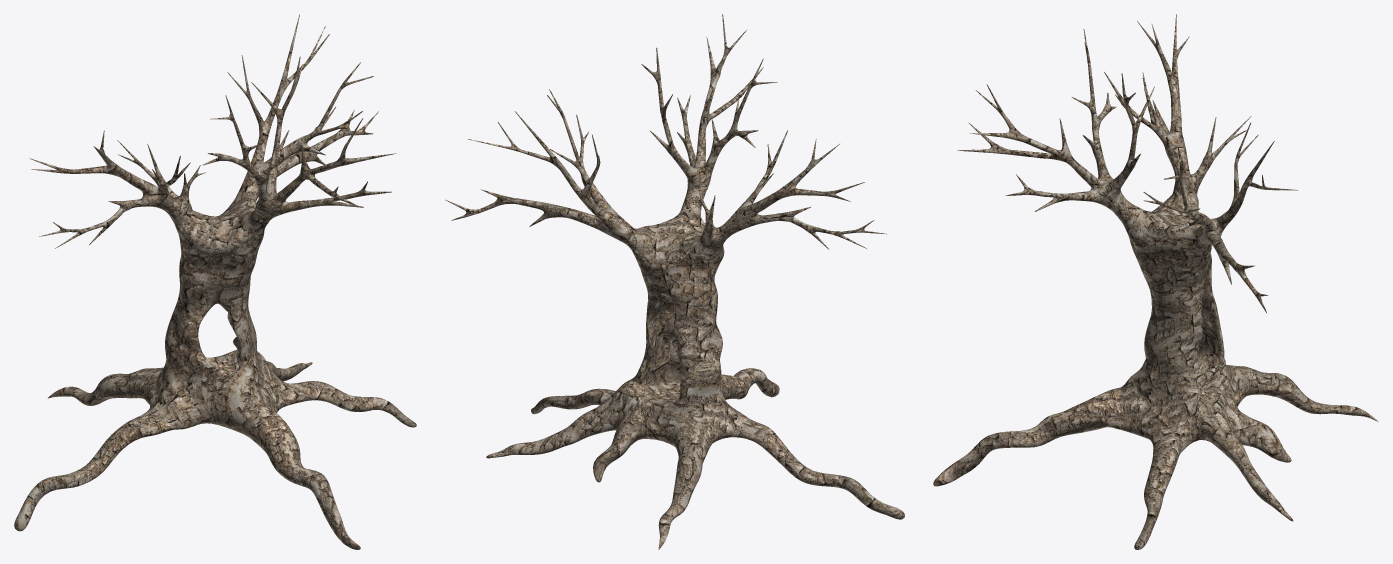
Rendered from HollowTree2.fbx.
The picture shows the model from 3 angles, left to right: view 1: azimuth 30°, elevation 25°; view 2: azimuth 150°, elevation 25°; view 3: azimuth 270°, elevation 25°; orthographic projection. The views are drawn at different scales.
Visible parts, largest first — view 1: Dead Tree; view 2: Dead Tree; view 3: Dead Tree.
Part boxes in pixels (x1=…): Dead Tree: x1=14, y1=14, x2=416, y2=549; Dead Tree: x1=445, y1=14, x2=904, y2=549; Dead Tree: x1=933, y1=14, x2=1378, y2=549.
Bounding box in the file's own units: 4717 × 4477 × 4206.
